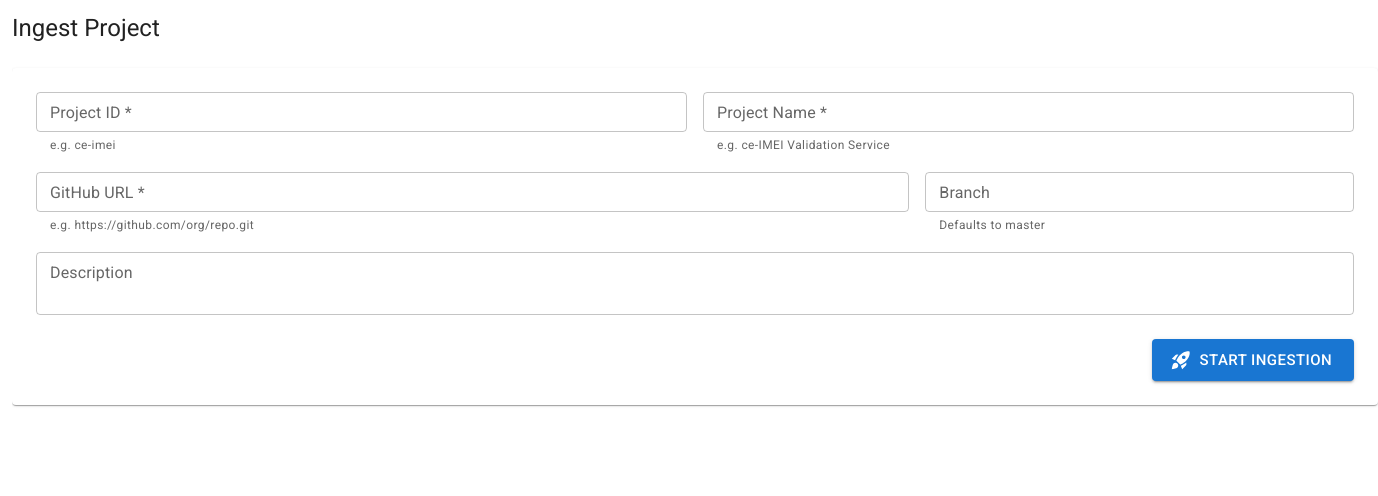
Scenario: IngestPage › shows error when submitting without required fields
This screenshot has width=1378, height=496.
Click the button "Start Ingestion" at (1253,360), box [1152, 339, 1354, 381]
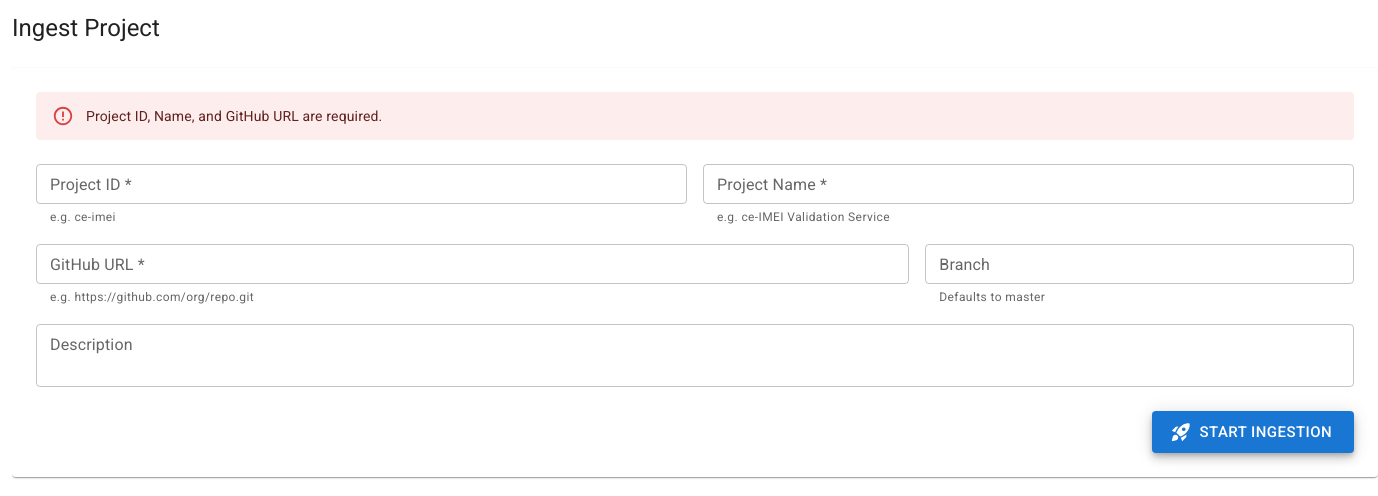
Expected: the text "Project ID, Name, and GitHub URL are required." is shown, [86, 108, 382, 124]
